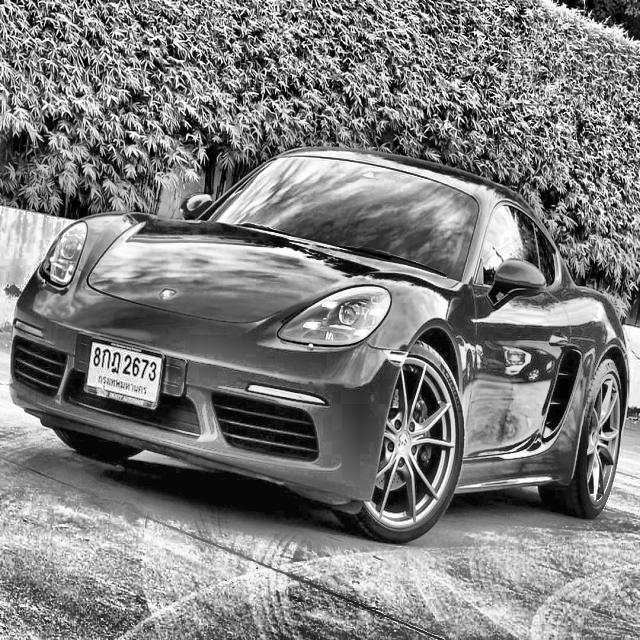license-plate: (80, 335, 168, 412)
